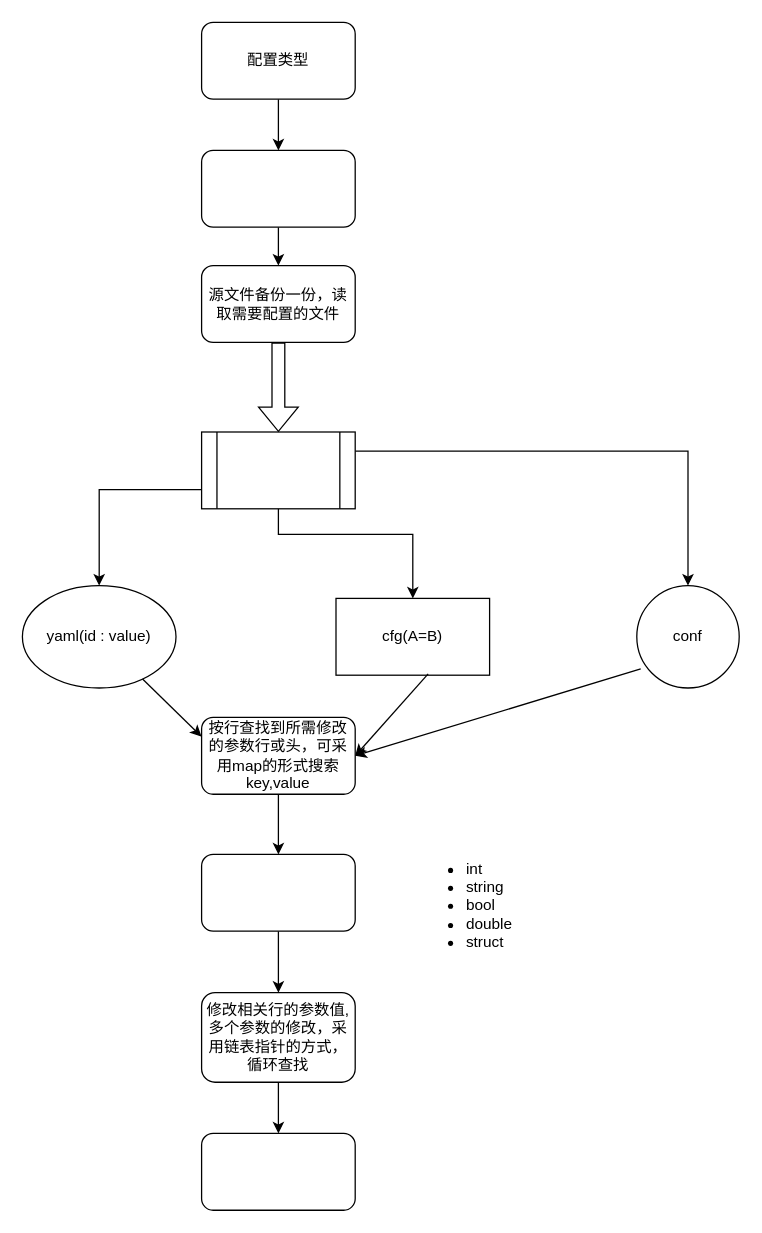
This 762x1233 diagram has some shape labels left out. The shapes that lost their labels are listed below. From the top down, each one's centre as x and y in pixels, then its label:
At (277,188): "配置文件路径".
At (277,470): "配置文件的格式".
At (277,892): "根据值的类型修改".
At (277,1171): "文件修改保存".
